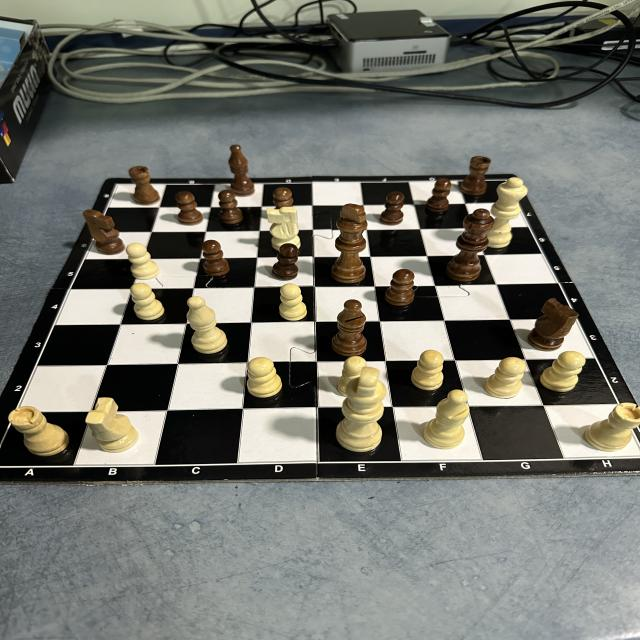Black-Bishop: (331, 299, 368, 356), (229, 144, 255, 196)
Black-King: (330, 203, 371, 284)
Black-Knight: (527, 297, 580, 352), (83, 210, 121, 254)
Black-Pawn: (384, 268, 417, 307), (201, 239, 230, 276), (270, 243, 299, 279), (426, 178, 453, 214), (379, 191, 406, 226), (175, 191, 202, 226), (218, 190, 244, 225), (272, 186, 293, 209)
Black-Queen: (445, 208, 495, 283)
Black-Rook: (128, 166, 161, 206), (462, 156, 495, 195)
White-Bishop: (423, 390, 475, 450), (186, 296, 229, 354)
White-King: (336, 367, 390, 454)
White-Knight: (84, 396, 138, 453), (269, 205, 299, 251)
White-Pawn: (538, 351, 590, 393), (485, 356, 529, 399), (410, 349, 449, 391), (246, 357, 283, 398), (126, 242, 159, 280), (132, 285, 162, 321), (339, 355, 368, 391), (280, 283, 306, 320)
White-Queen: (491, 177, 528, 247)
White-Rook: (8, 406, 72, 458), (583, 403, 640, 452)
